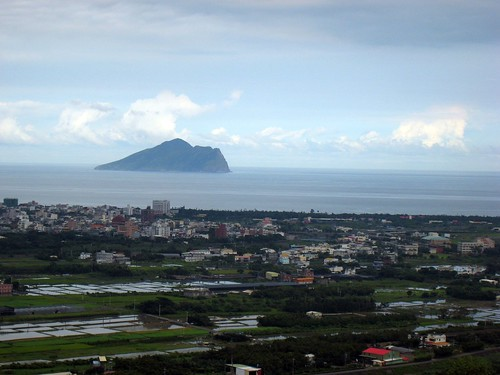turtleIsland: (95, 139, 231, 173)
